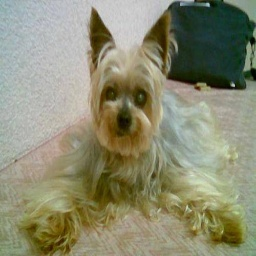dog: (23, 6, 239, 246)
